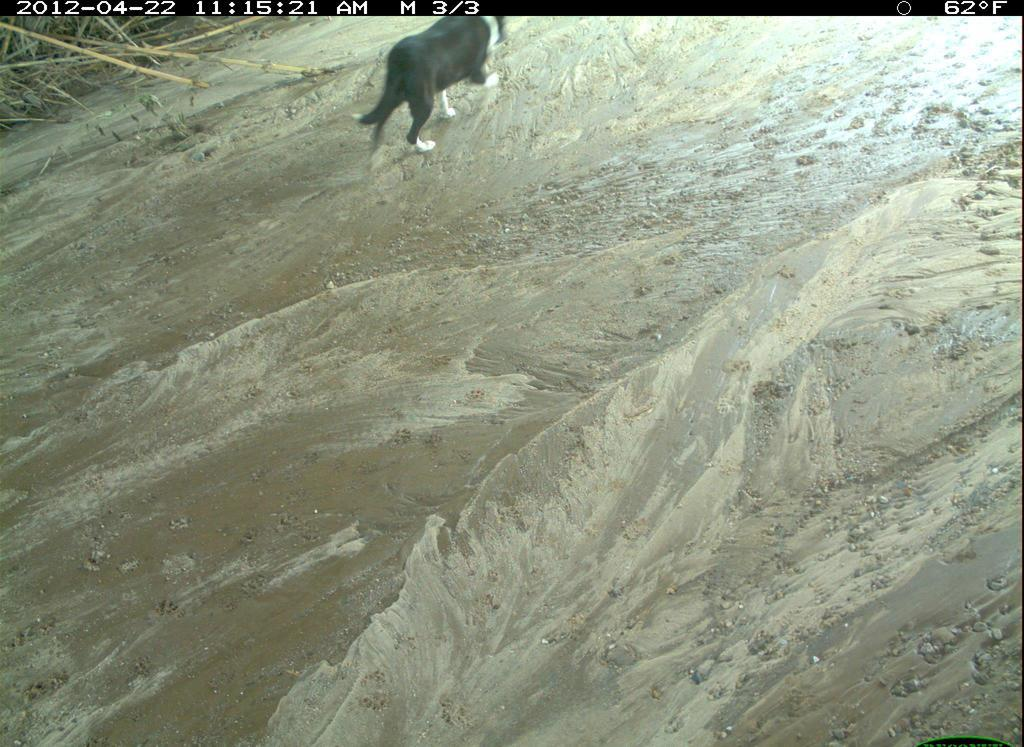dog: (694, 36, 1024, 341)
